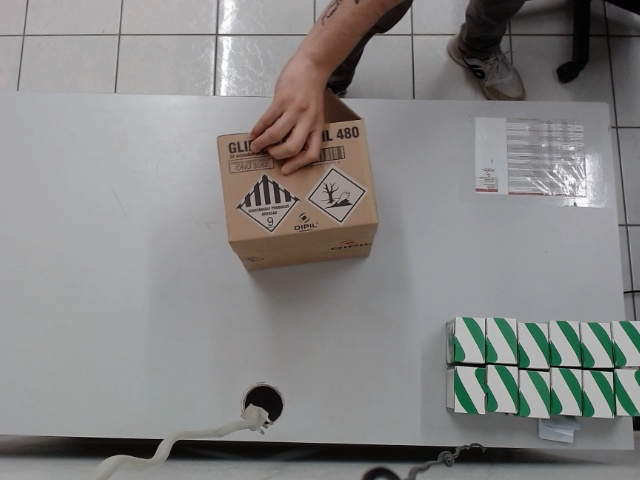caixa_principal: (206, 87, 400, 272)
